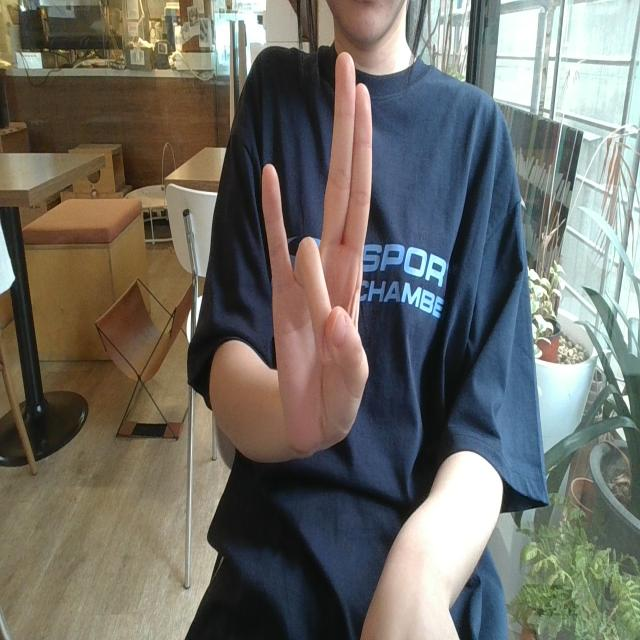yae: (235, 13, 405, 478)
